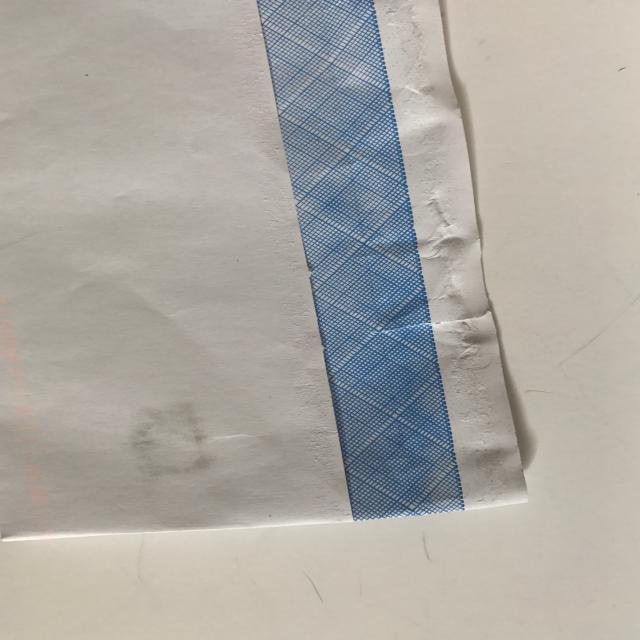paper: (0, 0, 549, 550)
